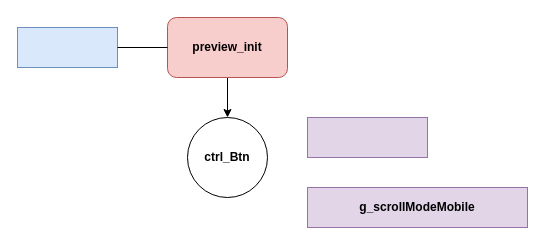
Some shapes in this 545 by 245 pixel diagram are drawn without their labels. Each missing label, with the centre of its shape:
"g_scrollModeBtn" belongs at [367,137].
"objEngine" belongs at [67,47].
